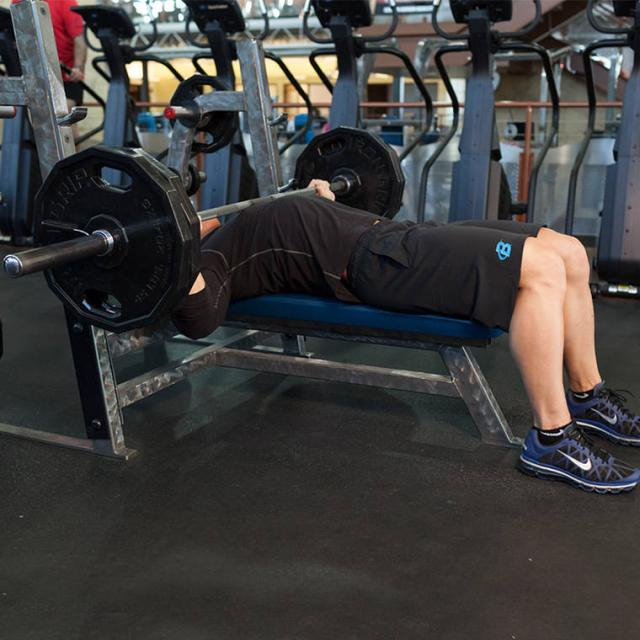bench: (0, 74, 640, 524)
